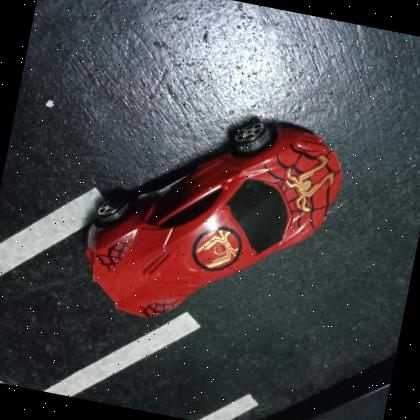Car: (85, 117, 344, 317)
